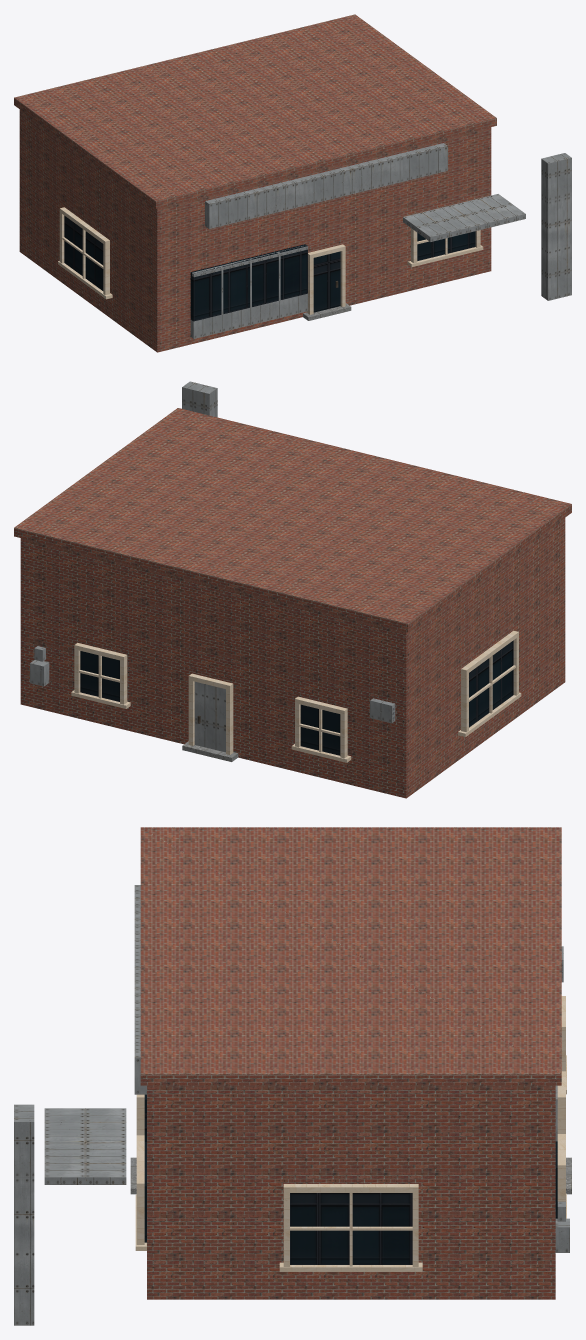
File: ironport-pizza-kitchen_lod0.gltf
3 views of the same model, one above another, from view 1: azimuth 30°, elevation 25°; view 2: azimuth 150°, elevation 25°; view 3: azimuth 270°, elevation 25° (orthographic). The views are drawn at different scales.
Visible parts, largest first — view 1: ironport-pizza-kitchen__parapet, ironport-pizza-kitchen_main, ironport-pizza-kitchen_fen_07-glass-curtain-blue_1_t, ironport-pizza-kitchen__sign_band, ironport-pizza-kitchen__sign_pylon, ironport-pizza-kitchen_fen_04-limestone_2, ironport-pizza-kitchen__pickup_canopy, ironport-pizza-kitchen_fen_14-steel-panel_0; view 2: ironport-pizza-kitchen_main, ironport-pizza-kitchen__parapet, ironport-pizza-kitchen_fen_04-limestone_2, ironport-pizza-kitchen_fen_07-glass-curtain-blue_1_t, ironport-pizza-kitchen_fen_14-steel-panel_0, ironport-pizza-kitchen__sign_pylon; view 3: ironport-pizza-kitchen__parapet, ironport-pizza-kitchen_main, ironport-pizza-kitchen_fen_07-glass-curtain-blue_1_t, ironport-pizza-kitchen_fen_04-limestone_2, ironport-pizza-kitchen__pickup_canopy, ironport-pizza-kitchen__sign_pylon, ironport-pizza-kitchen__sign_band, ironport-pizza-kitchen_fen_14-steel-panel_0.
Boxes of the visible parts, box(x1,y1,x2,y2) form: ironport-pizza-kitchen__parapet: box(14, 14, 496, 208); ironport-pizza-kitchen_main: box(19, 109, 491, 352); ironport-pizza-kitchen_fen_07-glass-curtain-blue_1_t: box(64, 215, 475, 321); ironport-pizza-kitchen__sign_band: box(205, 143, 447, 228); ironport-pizza-kitchen__sign_pylon: box(541, 153, 571, 300); ironport-pizza-kitchen_fen_04-limestone_2: box(58, 207, 483, 314); ironport-pizza-kitchen__pickup_canopy: box(403, 194, 525, 241); ironport-pizza-kitchen_fen_14-steel-panel_0: box(190, 246, 308, 338); ironport-pizza-kitchen_main: box(20, 518, 565, 798); ironport-pizza-kitchen__parapet: box(14, 408, 571, 632); ironport-pizza-kitchen_fen_04-limestone_2: box(71, 630, 521, 762); ironport-pizza-kitchen_fen_07-glass-curtain-blue_1_t: box(80, 640, 513, 755); ironport-pizza-kitchen_fen_14-steel-panel_0: box(30, 646, 395, 752); ironport-pizza-kitchen__sign_pylon: box(182, 381, 217, 417); ironport-pizza-kitchen__parapet: box(140, 827, 561, 1085); ironport-pizza-kitchen_main: box(147, 1085, 555, 1299); ironport-pizza-kitchen_fen_07-glass-curtain-blue_1_t: box(144, 1094, 557, 1264); ironport-pizza-kitchen_fen_04-limestone_2: box(135, 996, 566, 1271); ironport-pizza-kitchen__pickup_canopy: box(44, 1108, 126, 1184); ironport-pizza-kitchen__sign_pylon: box(14, 1104, 34, 1325); ironport-pizza-kitchen__sign_band: box(134, 885, 146, 1094); ironport-pizza-kitchen_fen_14-steel-panel_0: box(555, 946, 569, 1252).
Size of the model in its own units: 15.78 by 6.15 by 13.65.
